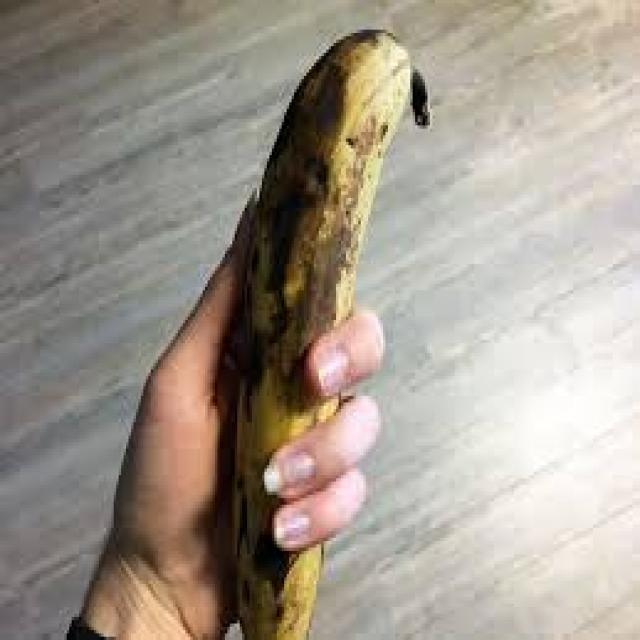biodegradable: (227, 30, 430, 637)
